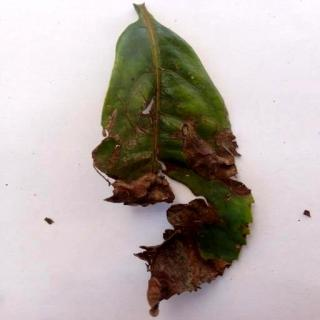Algal Leaf: (96, 1, 255, 319)
